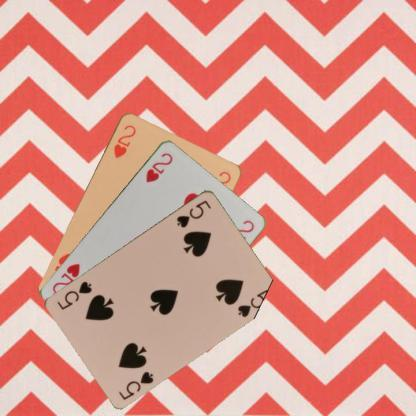2h: (143, 150, 174, 184), (110, 122, 138, 159)
5s: (116, 368, 154, 401), (174, 197, 213, 229)
